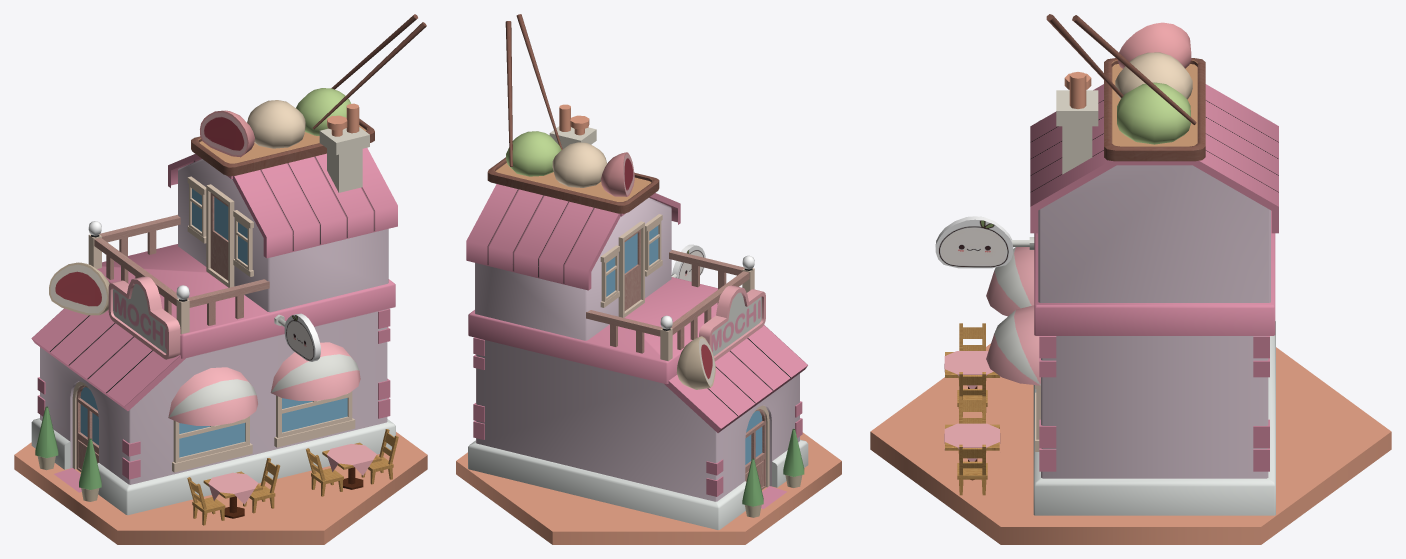
The model's file is HouseMochi.fbx.
3 renders of one model, left to right at view 1: azimuth 30°, elevation 25°; view 2: azimuth 150°, elevation 25°; view 3: azimuth 270°, elevation 25°, orthographic. The views are drawn at different scales.
Visible parts, largest first — view 1: HouseMochi; view 2: HouseMochi; view 3: HouseMochi.
Boxes of the visible parts, x1,y1,x2,y2 form: HouseMochi: (14,14,427,544); HouseMochi: (456,14,841,544); HouseMochi: (870,14,1391,544).
Size of the model in its own units: 366 by 454 by 397.
1 material, 1 textured.
